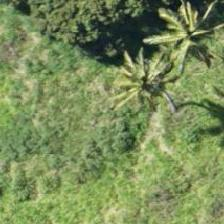coconut_tree: (90, 32, 180, 122), (148, 0, 223, 80)
